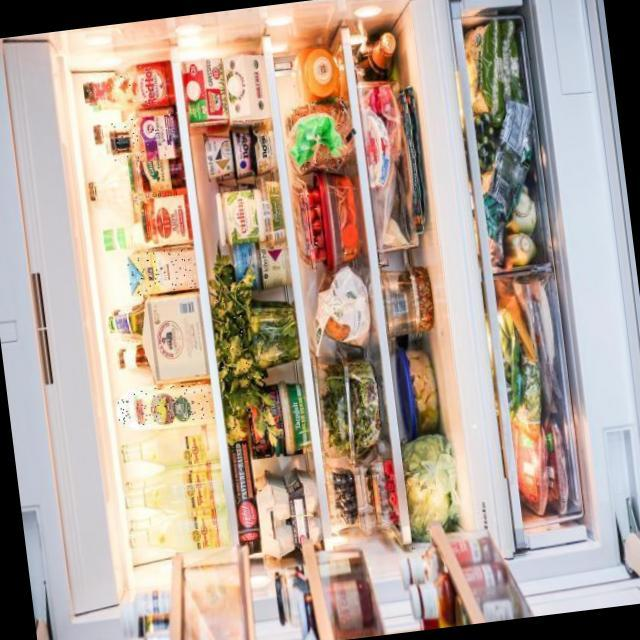blueberries: (332, 474, 356, 521)
bread: (284, 96, 350, 175)
milk: (114, 380, 214, 429), (124, 243, 199, 295)
parsley: (208, 274, 260, 394)
sauce: (82, 59, 174, 111), (108, 108, 178, 163)
tomato paste: (313, 232, 325, 247), (303, 190, 313, 207), (303, 209, 315, 223), (317, 246, 327, 262), (313, 202, 321, 217), (311, 190, 320, 203)
